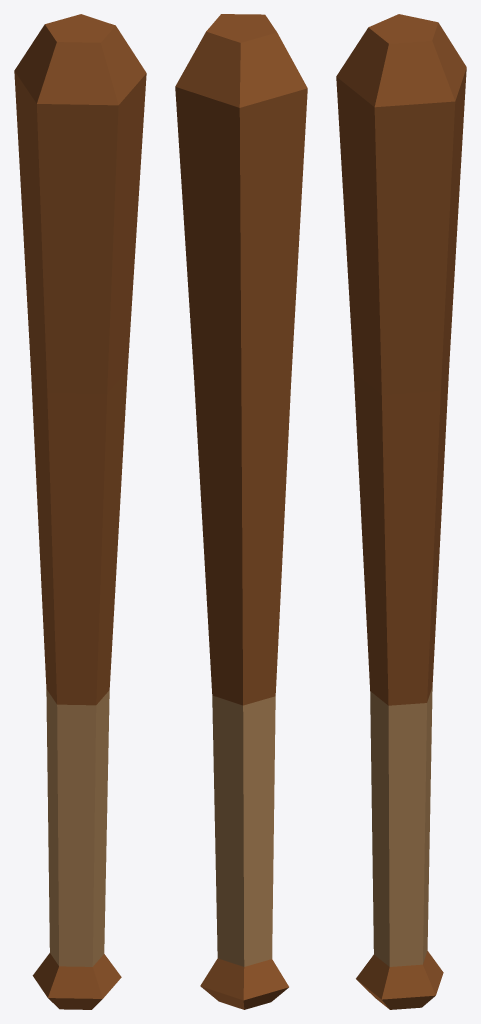
File: Low Poly Weapon Pack - by Kickin It Studios.fbx_Bat.glb
3 views of the same model, side by side, from view 1: azimuth 30°, elevation 25°; view 2: azimuth 210°, elevation 25°; view 3: azimuth 330°, elevation 25° (orthographic).
Parts seen in each view (by area): view 1: Bat; view 2: Bat; view 3: Bat.
Part boxes in pixels (box(x1,y1,x2,y2)): Bat: box(14, 14, 146, 1009); Bat: box(175, 14, 307, 1009); Bat: box(336, 14, 466, 1009).
Size of the model in its own units: 0.1196 by 0.9695 by 0.1163.
